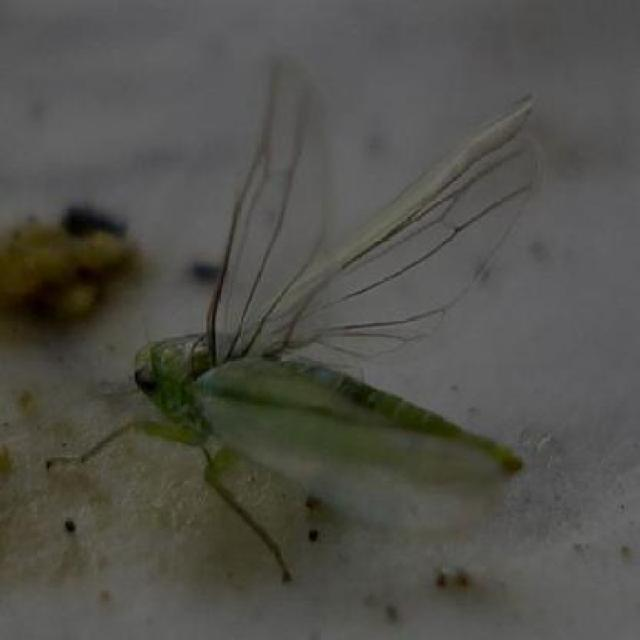green-leafhopper: (122, 112, 527, 558)
